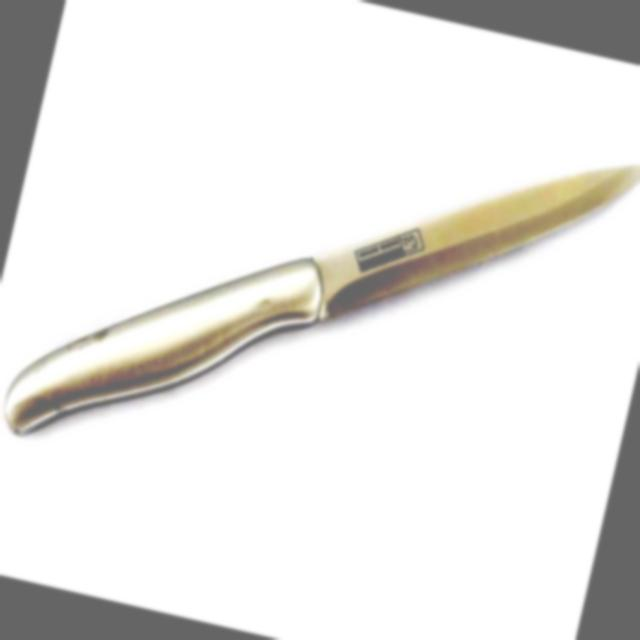knife: (0, 21, 640, 565)
